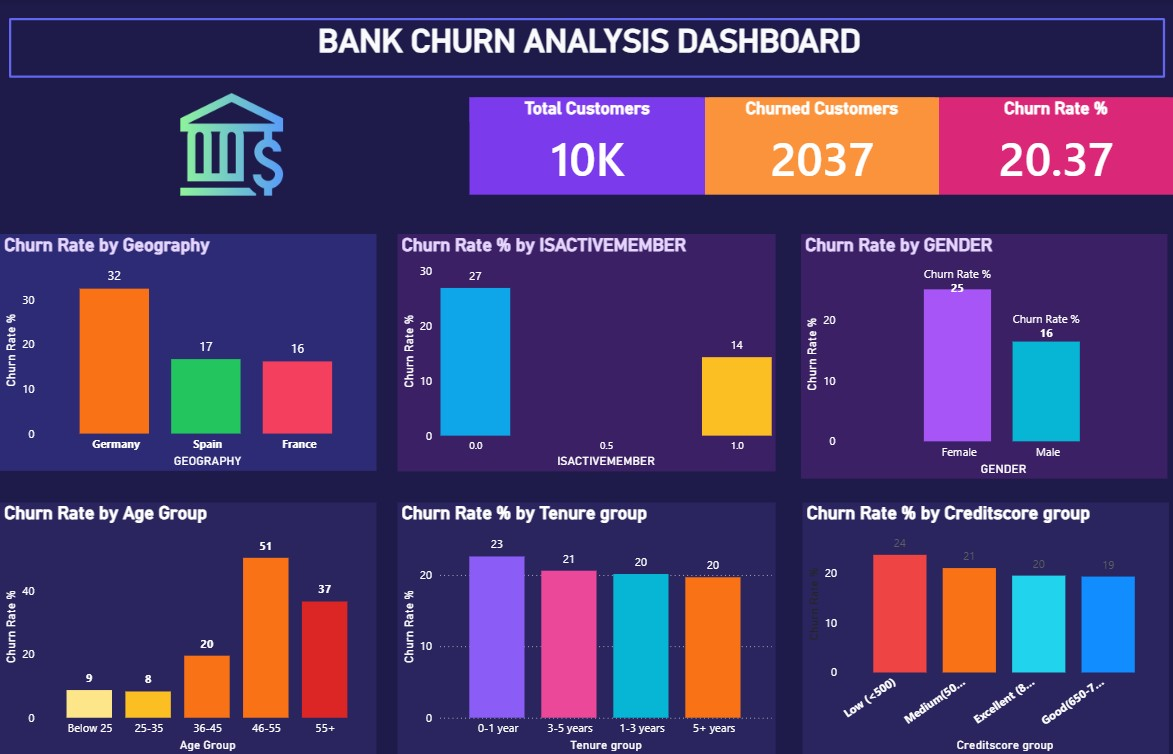

Layout of this report page (visuals, bound fields, positions):
{"tool":"powerbi","page":{"name":"Page 1","canvas":[1400,900],"ordinal":0},"visuals":[{"type":"shape","title":"BANK CHURN ANALYSIS DASHBOARD","box":[9.9,21.9,1379.9,71.6],"z":0},{"type":"card","title":"Total Customers","fields":{"Values":["BANK_CHURN.Total customers"]},"box":[560.1,115.7,281.1,115.7],"z":1000},{"type":"card","title":"Churned Customers","fields":{"Values":["BANK_CHURN.Churned Customers"]},"box":[841.2,115.7,279,115.7],"z":2000},{"type":"card","title":"Churn Rate %","fields":{"Values":["BANK_CHURN.Churn Rate %"]},"box":[1120.3,115.7,279,115.7],"z":3000},{"type":"clusteredColumnChart","title":"Churn Rate by Geography","fields":{"Category":["BANK_CHURN.GEOGRAPHY"],"Y":["BANK_CHURN.Churn Rate %"]},"box":[0,279.3,449.4,282.9],"z":4000},{"type":"clusteredColumnChart","title":"Churn Rate by Age Group","fields":{"Category":["BANK_CHURN.Age Group"],"Y":["BANK_CHURN.Churn Rate %"]},"box":[0,599.1,449.3,301.6],"z":5000},{"type":"clusteredColumnChart","title":"Churn Rate  by GENDER","fields":{"Category":["BANK_CHURN.GENDER"],"Y":["BANK_CHURN.Churn Rate %"]},"box":[956.9,278.4,437.3,292.2],"z":6000},{"type":"clusteredColumnChart","fields":{"Category":["BANK_CHURN.Tenure group"],"Y":["BANK_CHURN.Churn Rate %"]},"box":[473.6,599.1,451.4,301.6],"z":7000},{"type":"clusteredColumnChart","fields":{"Category":["BANK_CHURN.Creditscore group"],"Y":["BANK_CHURN.Churn Rate %"]},"box":[957.4,599.1,437.2,301.6],"z":8000},{"type":"clusteredColumnChart","fields":{"Category":["BANK_CHURN.ISACTIVEMEMBER"],"Y":["BANK_CHURN.Churn Rate %"]},"box":[473.6,279.3,451.4,283.4],"z":9000},{"type":"image","box":[17.9,105.4,516.9,133.2],"z":10000}]}

Visuals, with their boxes in screenshot pixels (x1, y1, x2, y2), scaled from the page's 1400x900 canvas onto the 1173x754 screenshot:
"BANK CHURN ANALYSIS DASHBOARD" shape: Rect(8, 18, 1164, 78)
"Total Customers" card: Rect(469, 97, 705, 194)
"Churned Customers" card: Rect(705, 97, 939, 194)
"Churn Rate %" card: Rect(939, 97, 1172, 194)
"Churn Rate by Geography" clusteredColumnChart: Rect(0, 234, 377, 471)
"Churn Rate by Age Group" clusteredColumnChart: Rect(0, 502, 376, 753)
"Churn Rate  by GENDER" clusteredColumnChart: Rect(802, 233, 1168, 478)
clusteredColumnChart - BANK_CHURN.Tenure group x BANK_CHURN.Churn Rate %: Rect(397, 502, 775, 753)
clusteredColumnChart - BANK_CHURN.Creditscore group x BANK_CHURN.Churn Rate %: Rect(802, 502, 1168, 753)
clusteredColumnChart - BANK_CHURN.ISACTIVEMEMBER x BANK_CHURN.Churn Rate %: Rect(397, 234, 775, 471)
image: Rect(15, 88, 448, 200)
